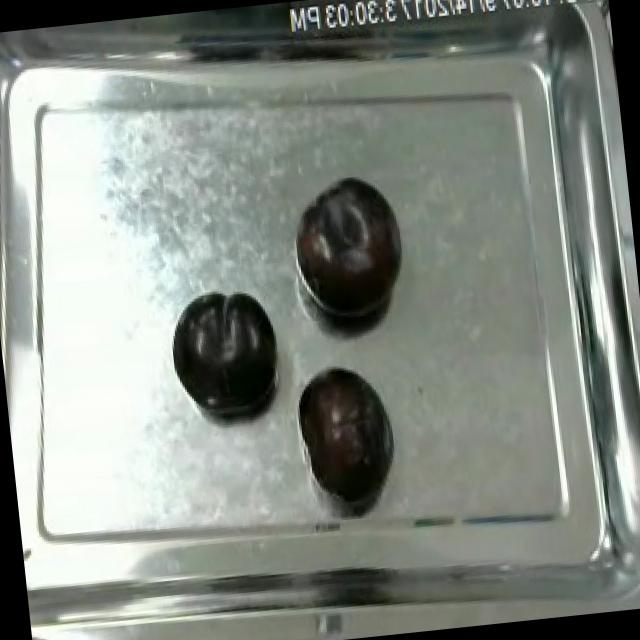Fruit: (291, 167, 415, 331), (164, 280, 286, 427), (293, 358, 401, 506)
